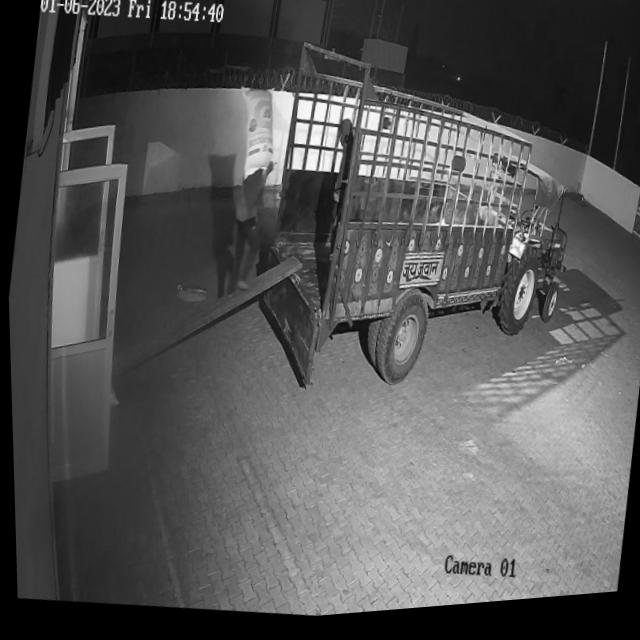sack: (229, 88, 281, 189)
